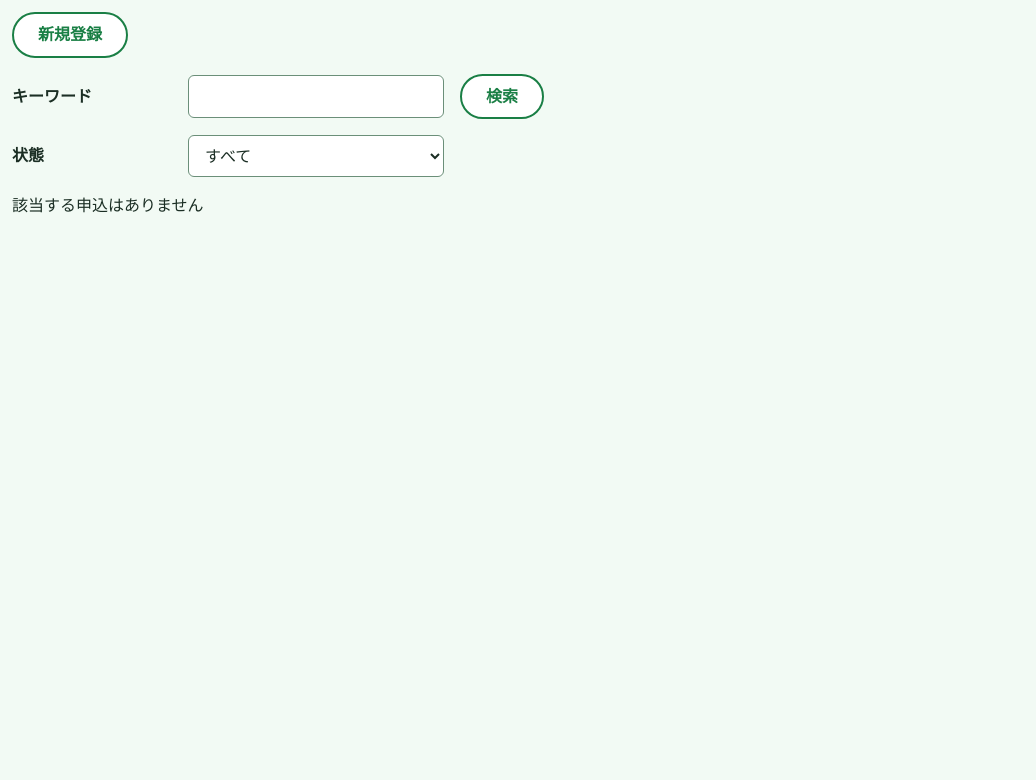
Test: 「新規登録」を押すと登録のフォームが出る
This screenshot has width=1036, height=780.
Click the button "新規登録" at [70, 35], box [12, 12, 128, 58]
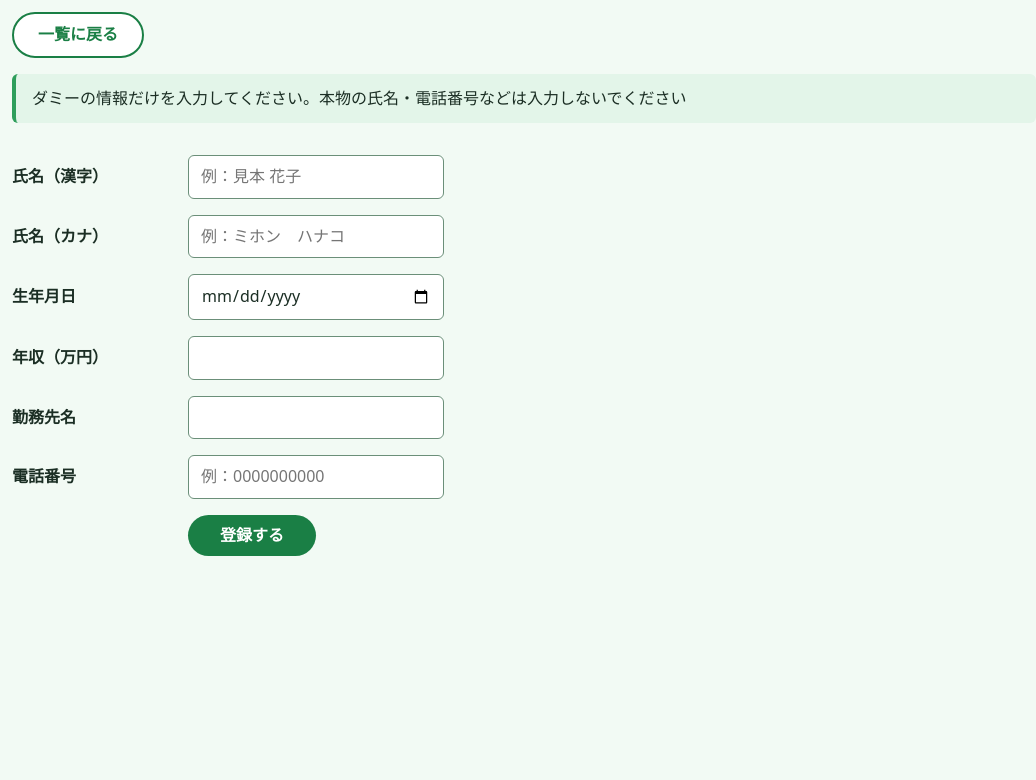
Expected: the field labelled "氏名（漢字）" is shown, [188, 155, 444, 199]
Expected: the button "登録する" is shown, [188, 515, 316, 556]
